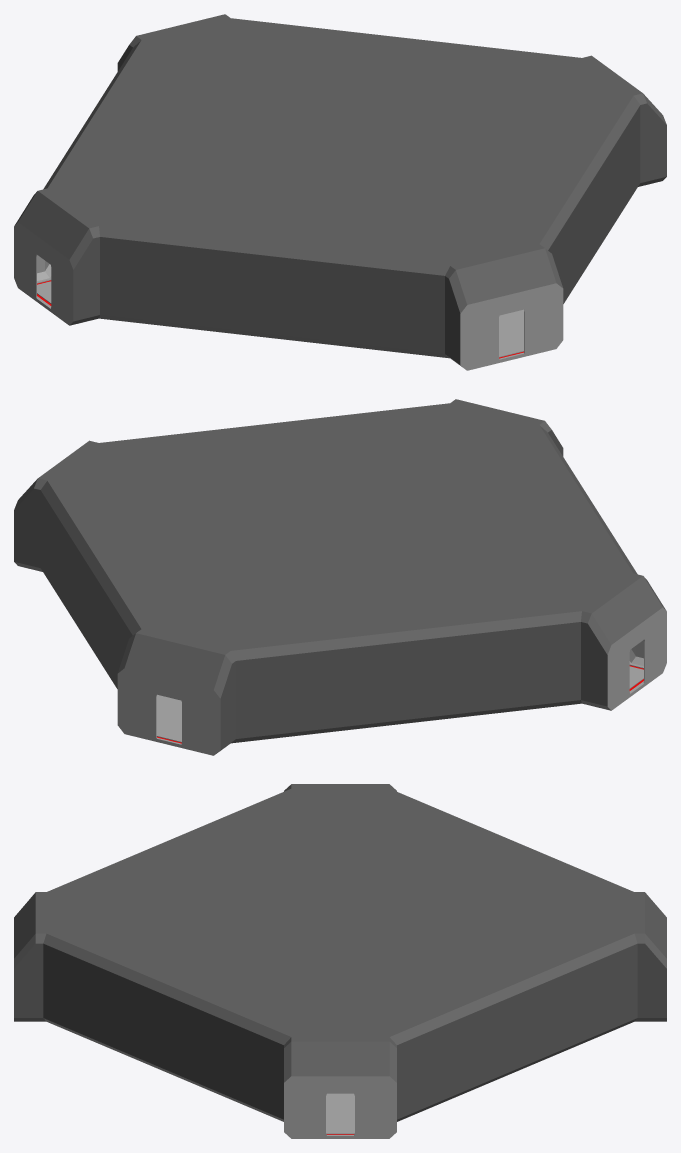
Rendered from RoomDiagonal.fbx.
3 renders of one model, top to bottom at view 1: azimuth 30°, elevation 25°; view 2: azimuth 150°, elevation 25°; view 3: azimuth 270°, elevation 25°, orthographic. The views are drawn at different scales.
Parts seen in each view (by area): view 1: EmptyRoom; view 2: EmptyRoom; view 3: EmptyRoom.
Boxes of the visible parts, x1,y1,x2,y2 form: EmptyRoom: (14,14,666,370); EmptyRoom: (14,399,666,755); EmptyRoom: (14,784,666,1138).
Bounding box in the file's own units: 3001 × 447 × 3001.
